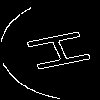H: (25, 25, 100, 74)
